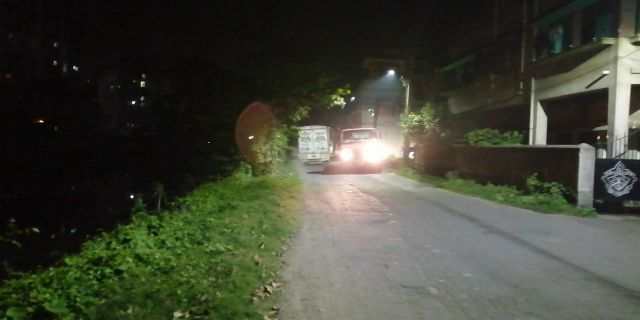Minitruck: (295, 119, 334, 165)
Truck: (340, 126, 386, 171)
